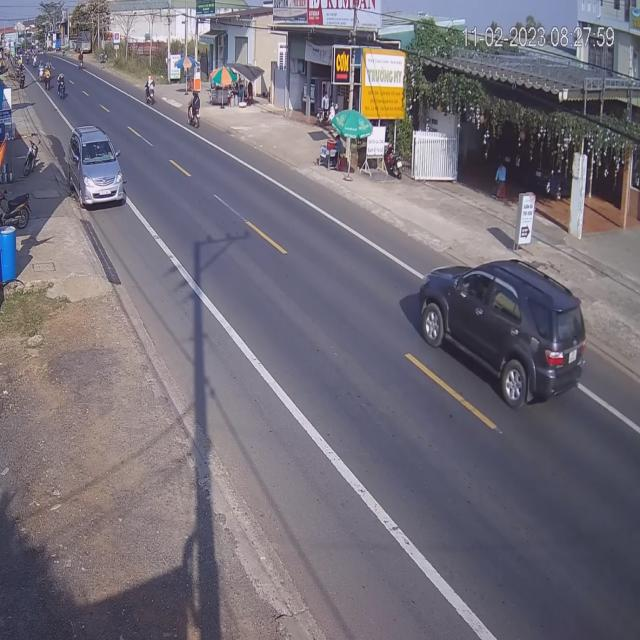car: (421, 260, 592, 412), (68, 125, 125, 208)
motorbike: (187, 94, 200, 132), (146, 76, 156, 109), (59, 74, 68, 102)
